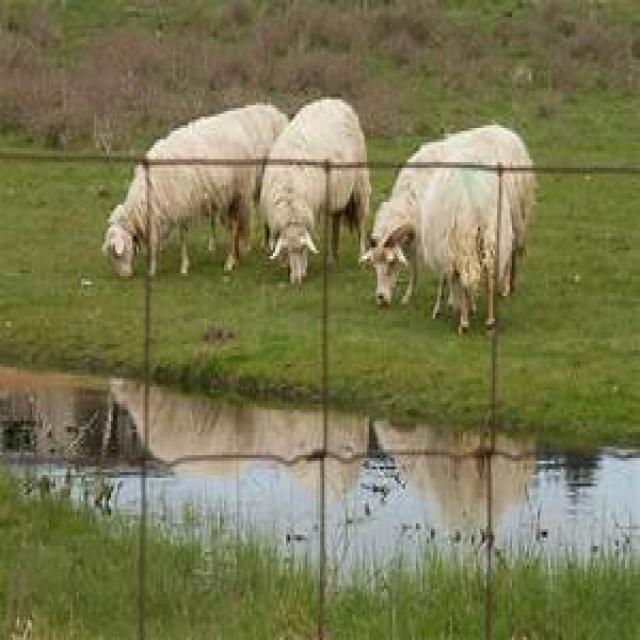animal: (365, 76, 534, 362), (67, 95, 266, 297), (224, 66, 371, 311)
